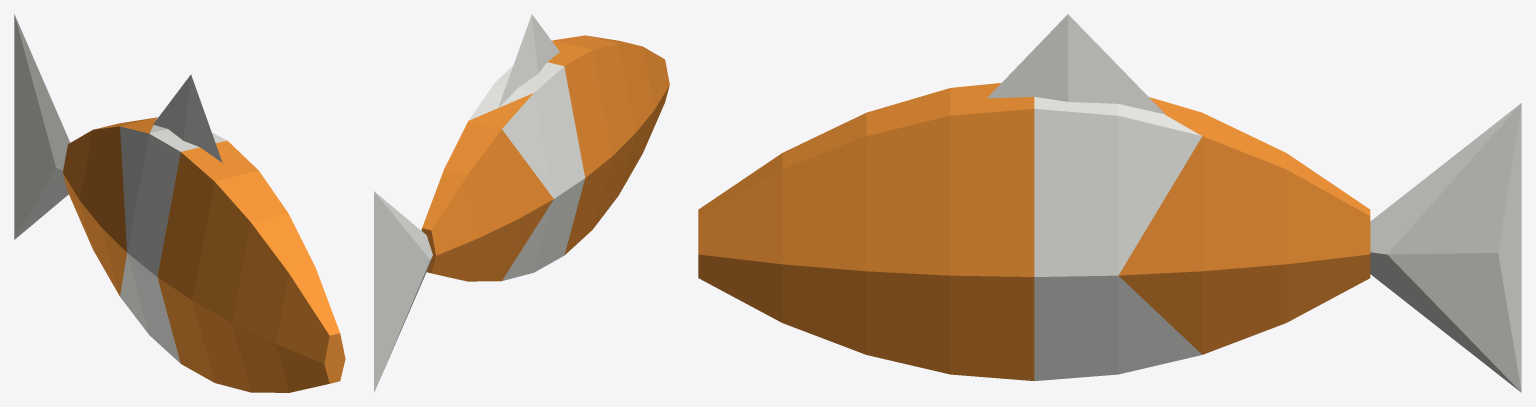
Rendered from Fish_1.glb.
3 views of the same model, side by side, from view 1: azimuth 30°, elevation 25°; view 2: azimuth 150°, elevation 25°; view 3: azimuth 270°, elevation 25° (orthographic). The views are drawn at different scales.
Visible parts, largest first — view 1: Fish_1; view 2: Fish_1; view 3: Fish_1.
Part boxes in pixels (left/top/right/bottom): Fish_1: left=14, top=14, right=345, bottom=392; Fish_1: left=374, top=14, right=669, bottom=392; Fish_1: left=698, top=14, right=1521, bottom=392.
Size of the model in its own units: 0.07 by 0.2115 by 0.4165.
